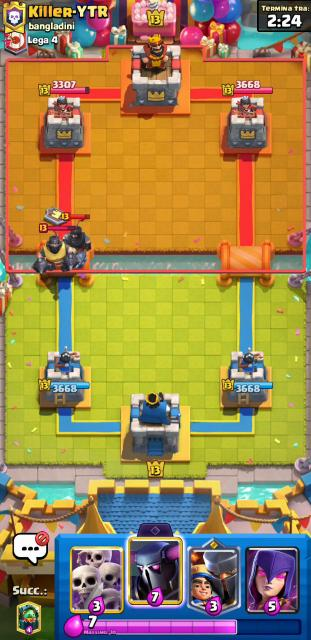enemy_melee: (63, 219, 92, 270)
enemy_tank: (30, 230, 79, 274)
